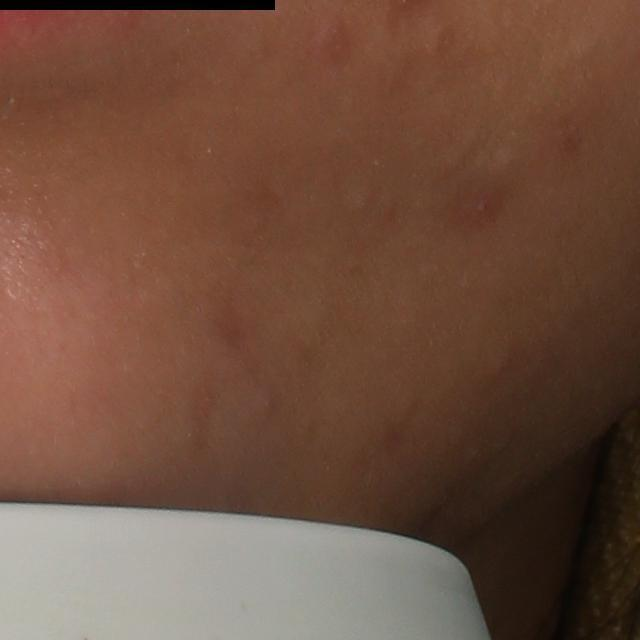papule: (313, 22, 347, 62)
